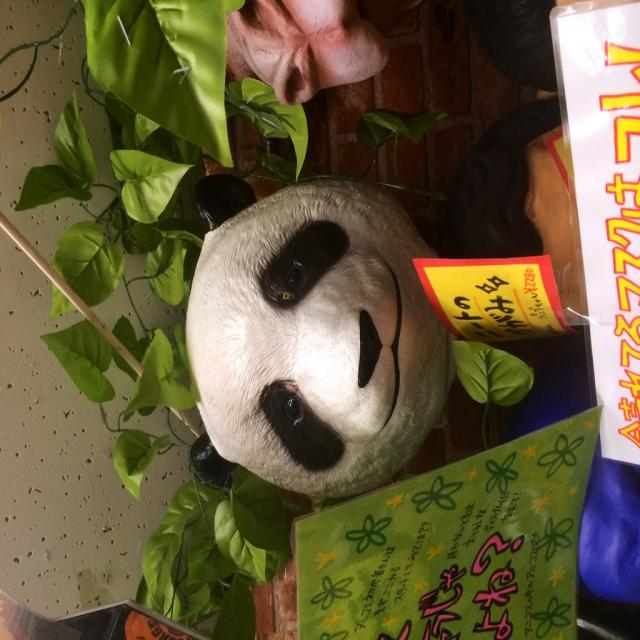panda: (184, 172, 456, 504)
